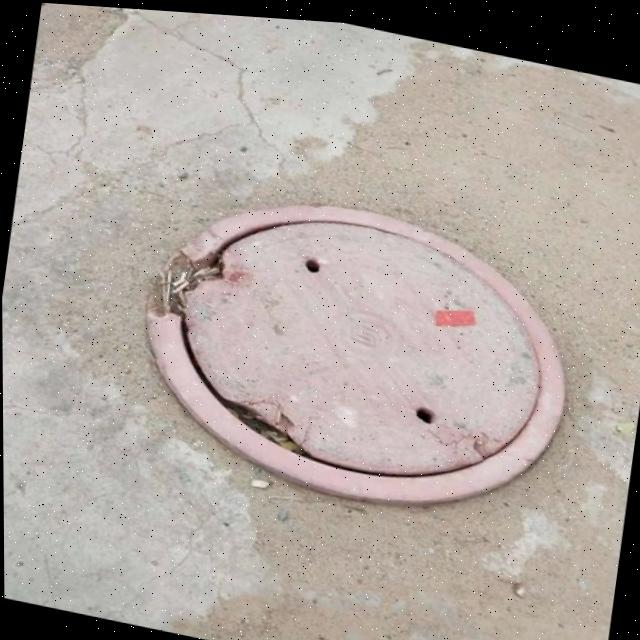manhole: (109, 154, 594, 543)
